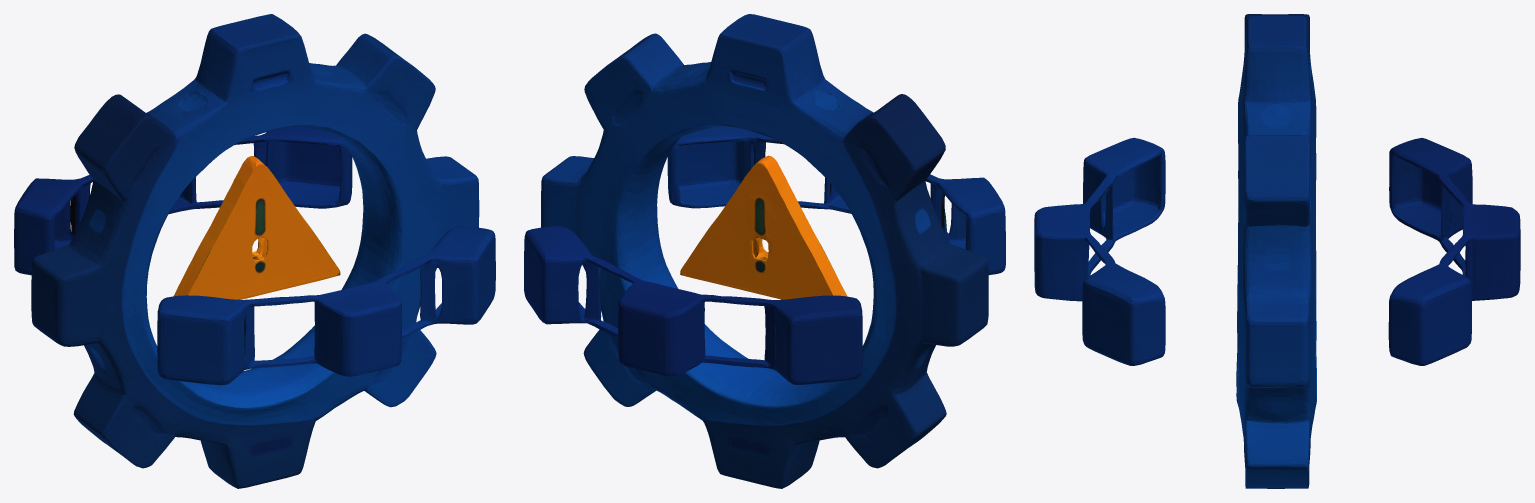
3 renders of one model, left to right at view 1: azimuth 30°, elevation 25°; view 2: azimuth 150°, elevation 25°; view 3: azimuth 270°, elevation 25°, orthographic.
Parts seen in each view (by area): view 1: world; view 2: world; view 3: world.
Part boxes in pixels (box(x1,y1,x2,y2)): world: box(14, 14, 495, 488); world: box(524, 14, 1005, 488); world: box(1034, 14, 1520, 488).
Bounding box in the file's own units: 0.9999 × 0.9999 × 0.9962.
Materials: 1 (1 with a texture image).
